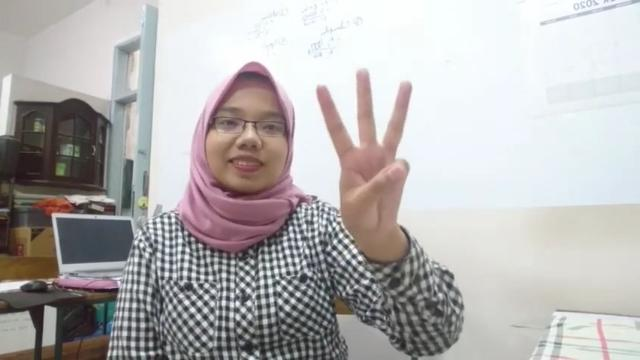W: (314, 66, 414, 234)
